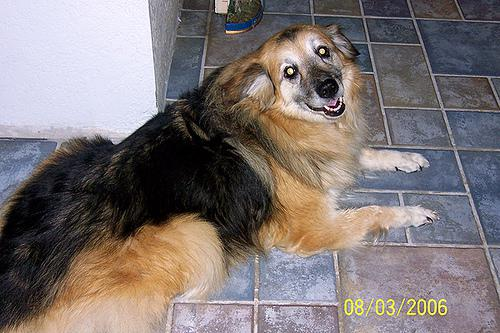dog-keeshond: (245, 23, 356, 121)
